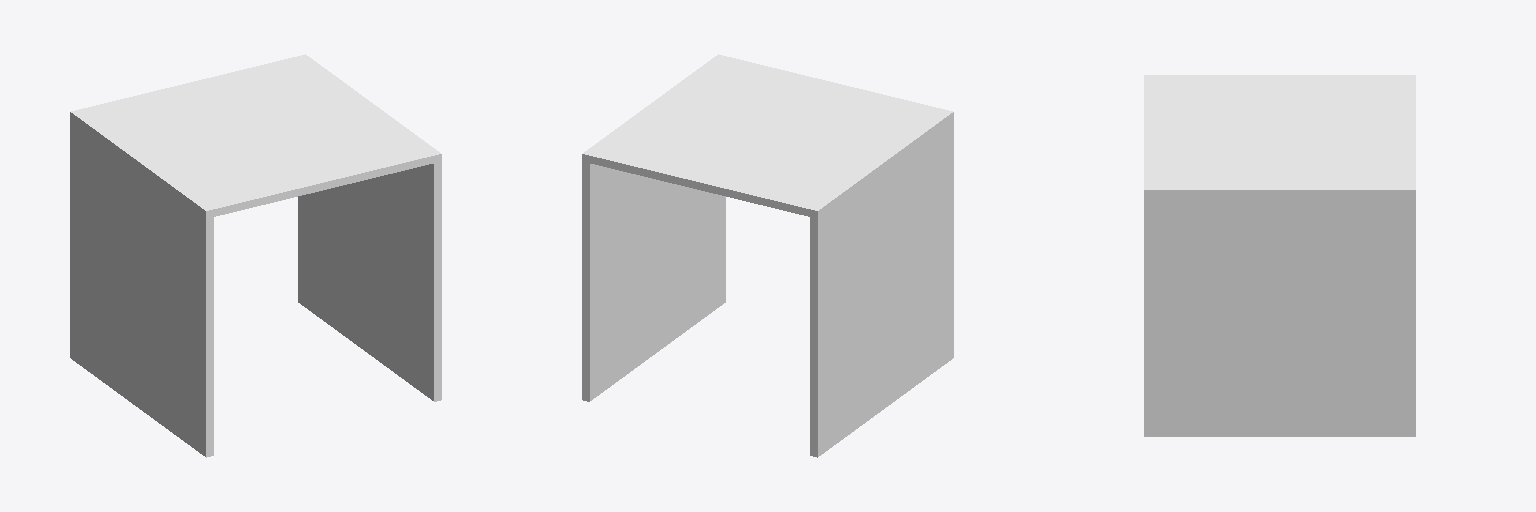
3 views of the same model, side by side, from view 1: azimuth 30°, elevation 25°; view 2: azimuth 150°, elevation 25°; view 3: azimuth 270°, elevation 25° (orthographic).
Visible parts, largest first — view 1: test-44; view 2: test-44; view 3: test-44.
Part boxes in pixels (x1,y1,x2,y2): test-44: (70,54,441,457); test-44: (582,54,953,457); test-44: (1144,75,1415,436).
Bounding box in the file's own units: 32 × 32 × 32.